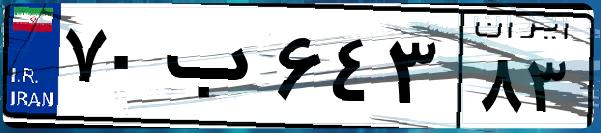0: (110, 28, 158, 98)
3: (385, 28, 445, 110), (525, 38, 570, 115)
4: (330, 28, 385, 110)
6: (270, 28, 330, 110)
7: (57, 26, 110, 100)
8: (475, 38, 525, 113)
ب: (158, 20, 270, 120)
